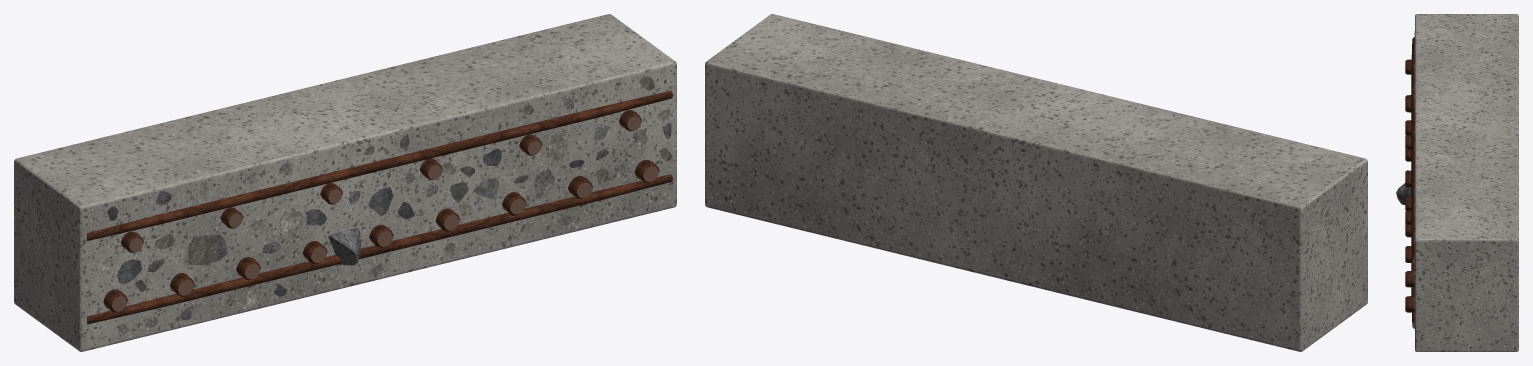
The model's file is rcc-slab.glb.
3 renders of one model, left to right at view 1: azimuth 30°, elevation 25°; view 2: azimuth 150°, elevation 25°; view 3: azimuth 270°, elevation 25°, orthographic. The views are drawn at different scales.
Parts seen in each view (by area): view 1: Concrete, AggregateSections, DistributionRod_2, DistributionRod_1, AggregateHighlight; view 2: Concrete; view 3: Concrete, DistributionRod_2, AggregateHighlight, Rebar_08, Rebar_09, AggregateSections, DistributionRod_1.
Boxes of the visible parts, <box> form: Concrete: <box>14,14,676,351</box>; AggregateSections: <box>98,77,672,334</box>; DistributionRod_2: <box>87,90,672,240</box>; DistributionRod_1: <box>87,174,672,324</box>; AggregateHighlight: <box>328,228,360,265</box>; Concrete: <box>705,14,1367,351</box>; Concrete: <box>1415,14,1518,351</box>; DistributionRod_2: <box>1411,37,1414,264</box>; AggregateHighlight: <box>1396,183,1411,204</box>; Rebar_08: <box>1405,270,1414,287</box>; Rebar_09: <box>1405,296,1414,312</box>; AggregateSections: <box>1414,31,1414,310</box>; DistributionRod_1: <box>1411,237,1414,328</box>.
Size of the model in its own units: 0.36 by 0.084 by 0.0826.
Materials: 5 (4 with a texture image).
